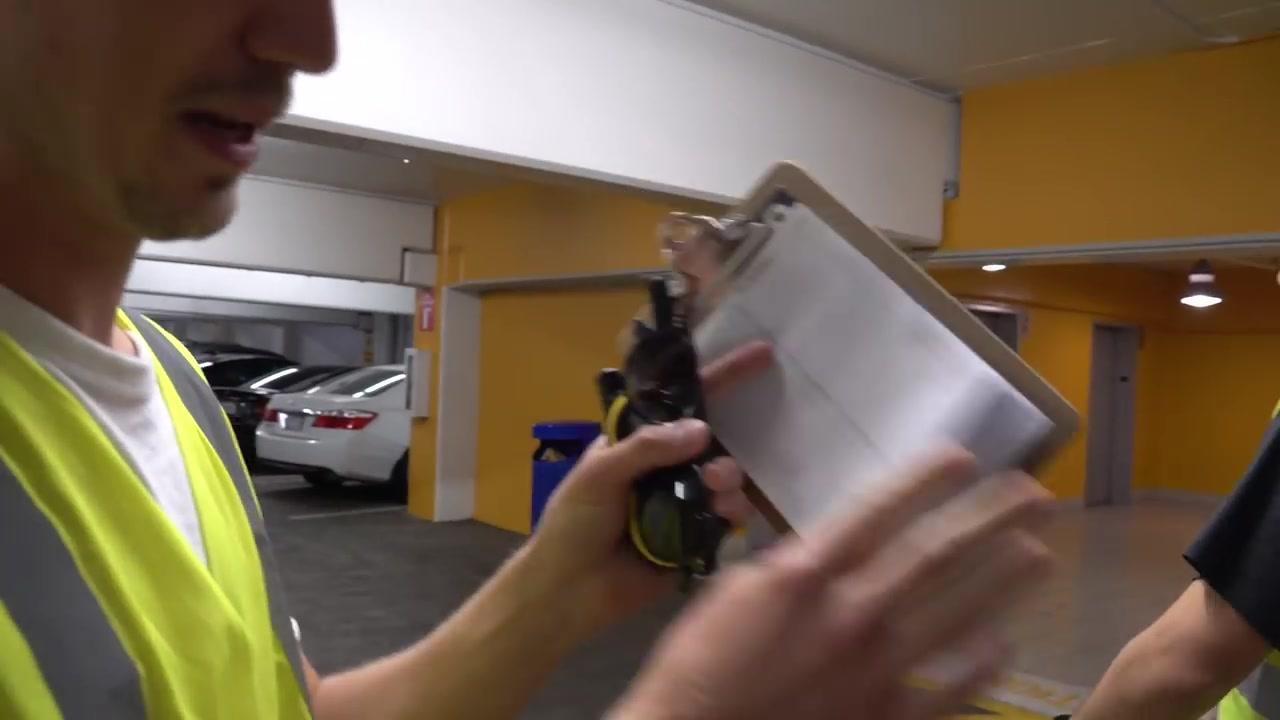vest: (0, 295, 317, 718), (1212, 400, 1279, 719)
